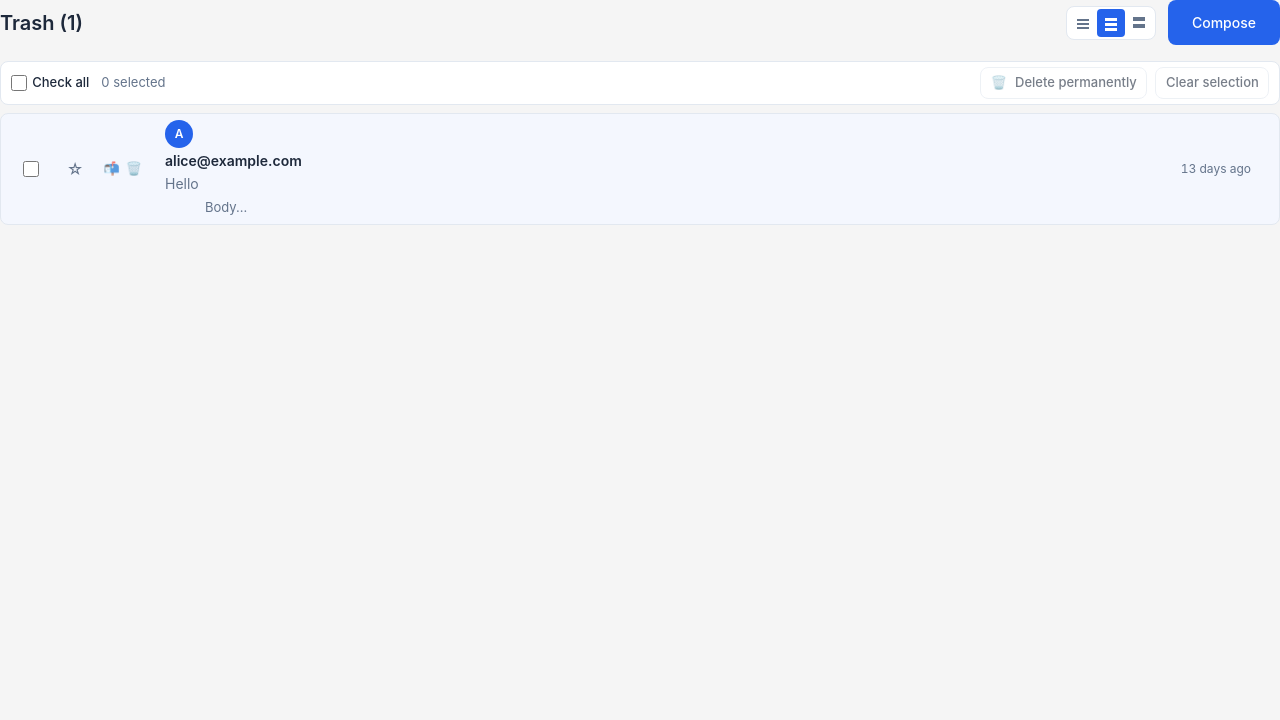
Test: bulk trash actions › permanently deletes selected messages in Trash after confirmation
Click the checkbox with class "row-checkbox": (31, 169) x1=23 y1=161 x2=39 y2=177
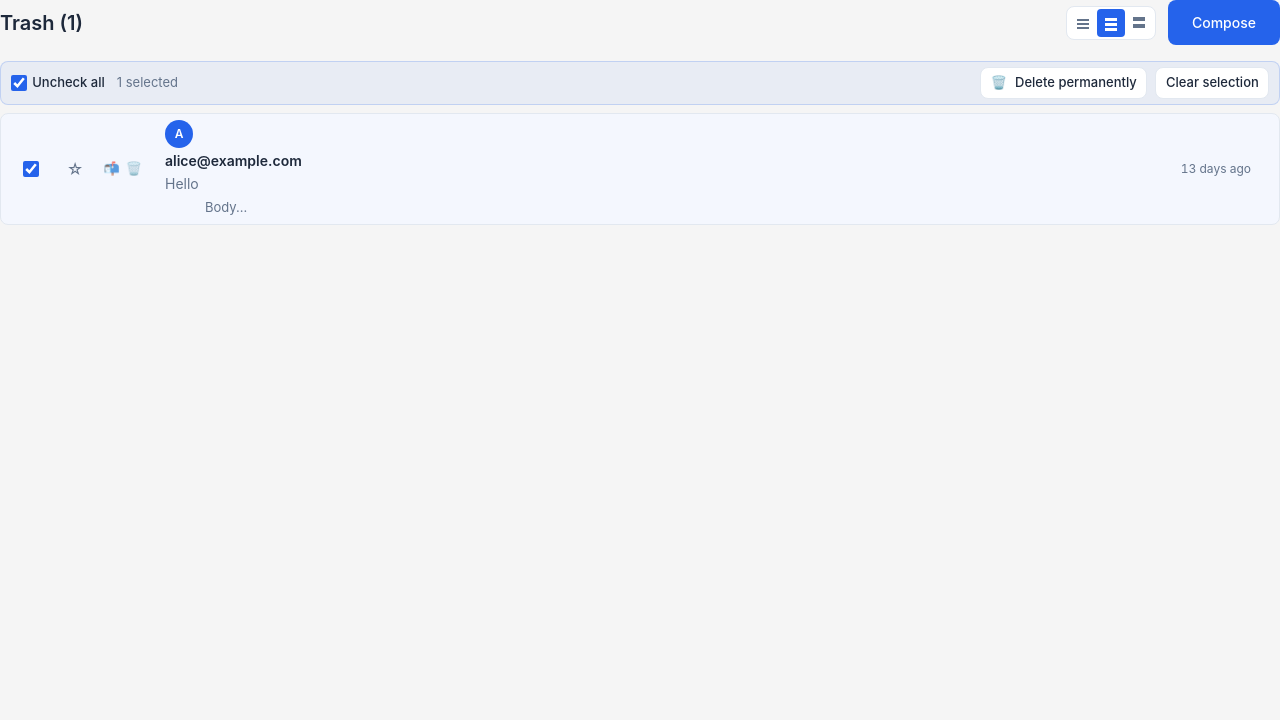
Click the button "🗑️ Delete permanently": (1064, 83) x1=980 y1=67 x2=1147 y2=100
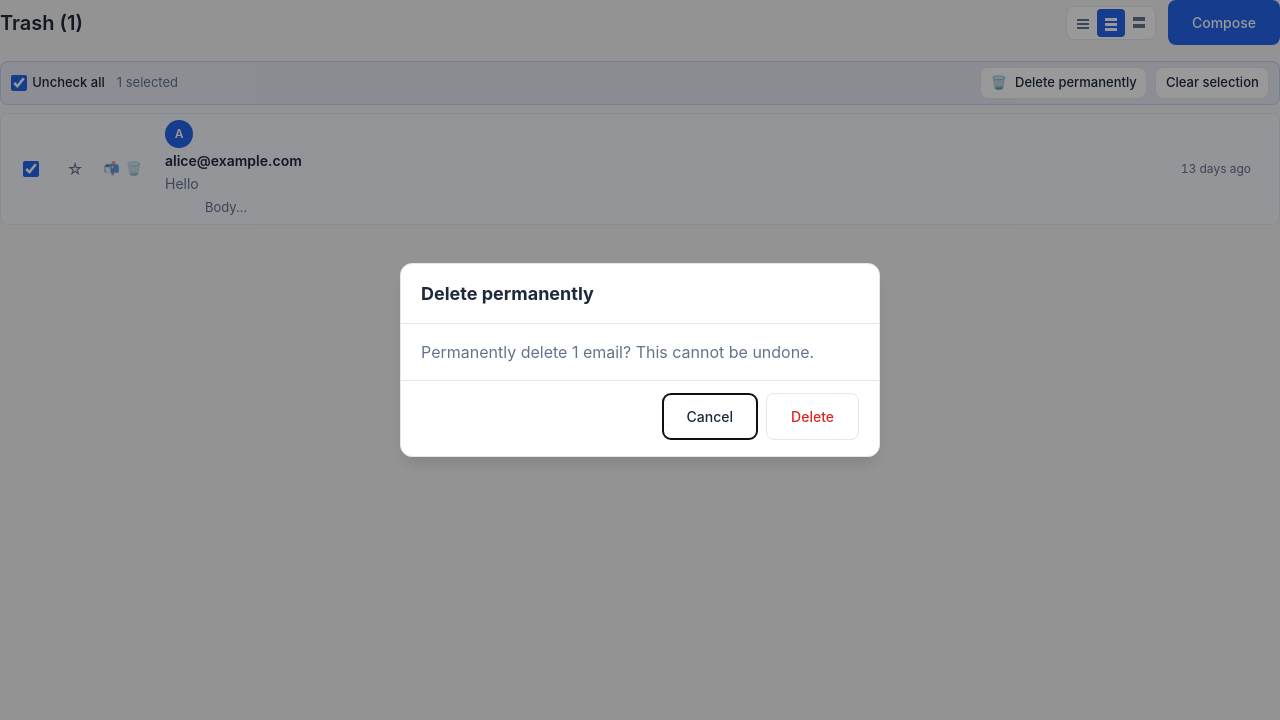
Expected: the dialog shows "Permanently delete 1 email? This cannot be undone.", x1=421 y1=342 x2=814 y2=362
Click the button "Delete": (813, 416) x1=766 y1=393 x2=859 y2=440
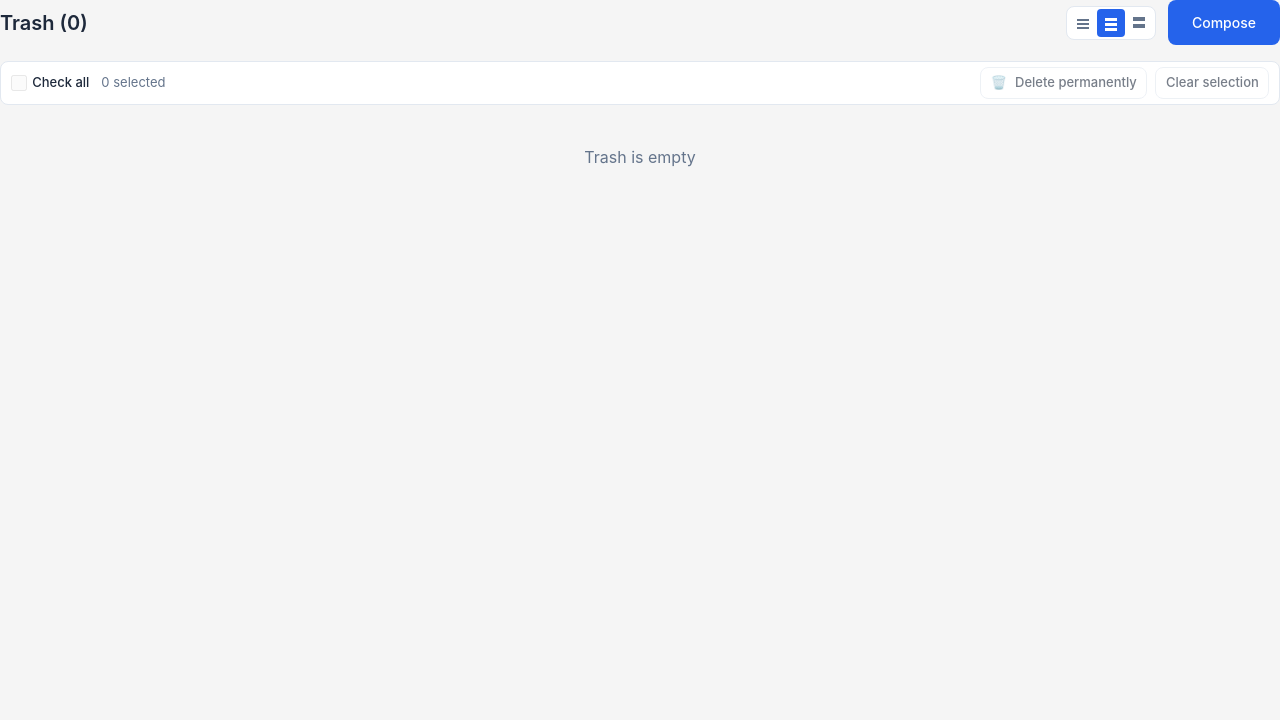
Expected: the text "1 selected" is gone
